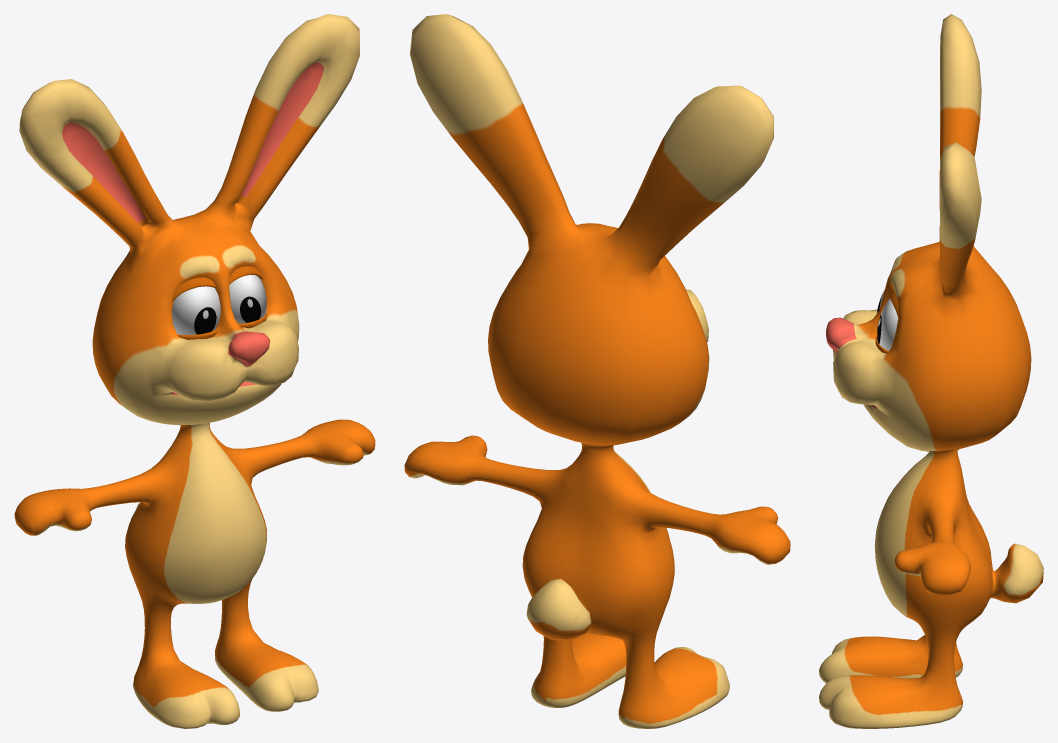
Rendered from rabbit.obj.
The picture shows the model from 3 angles, left to right: view 1: azimuth 30°, elevation 25°; view 2: azimuth 150°, elevation 25°; view 3: azimuth 270°, elevation 25°; orthographic projection. The views are drawn at different scales.
Visible parts, largest first — view 1: rabbit, eye_right, eye_left; view 2: rabbit; view 3: rabbit, eye_left.
Part boxes in pixels (<box>): rabbit: <box>14,14,375,728</box>; eye_right: <box>172,286,220,334</box>; eye_left: <box>229,275,266,323</box>; rabbit: <box>404,14,790,728</box>; rabbit: <box>819,14,1043,728</box>; eye_left: <box>877,298,897,350</box>.
Bounding box in the file's own units: 66.99 × 114 × 37.77.
